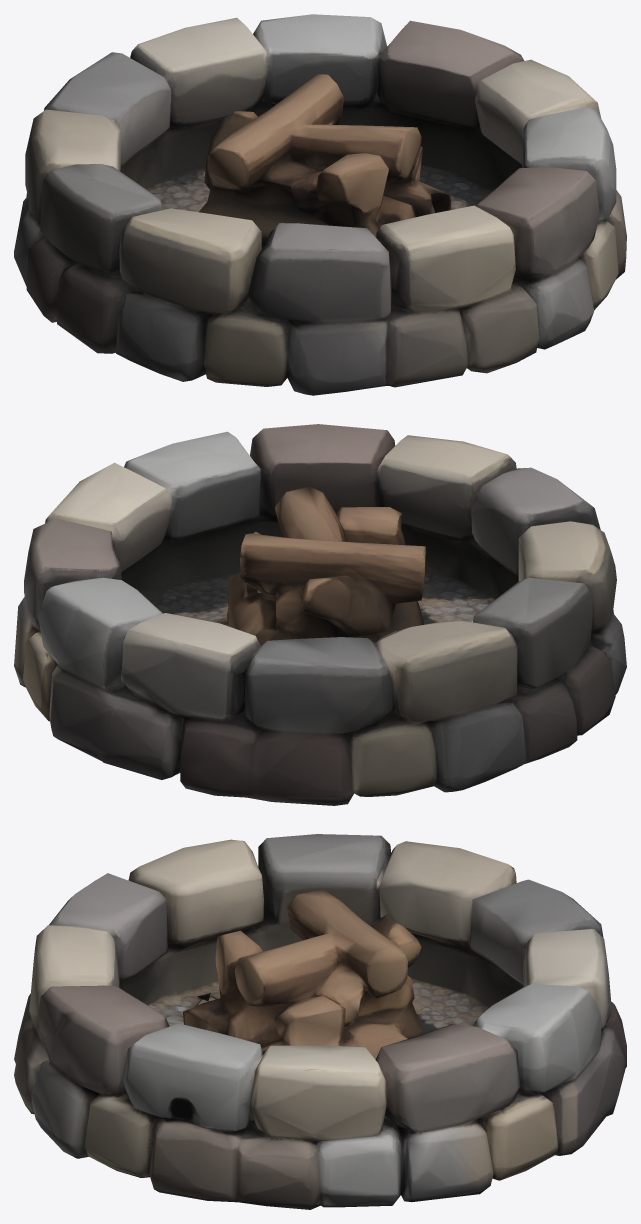
File: fire_pit.glb
3 views of the same model, one above another, from view 1: azimuth 30°, elevation 25°; view 2: azimuth 150°, elevation 25°; view 3: azimuth 270°, elevation 25° (orthographic).
Parts seen in each view (by area): view 1: world; view 2: world; view 3: world.
Part boxes in pixels (x1,y1,x2,y2): world: (14,14,626,395); world: (14,424,626,805); world: (14,834,626,1209).
Size of the model in its own units: 0.78 by 0.2287 by 0.777.
Materials: 1 (1 with a texture image).
